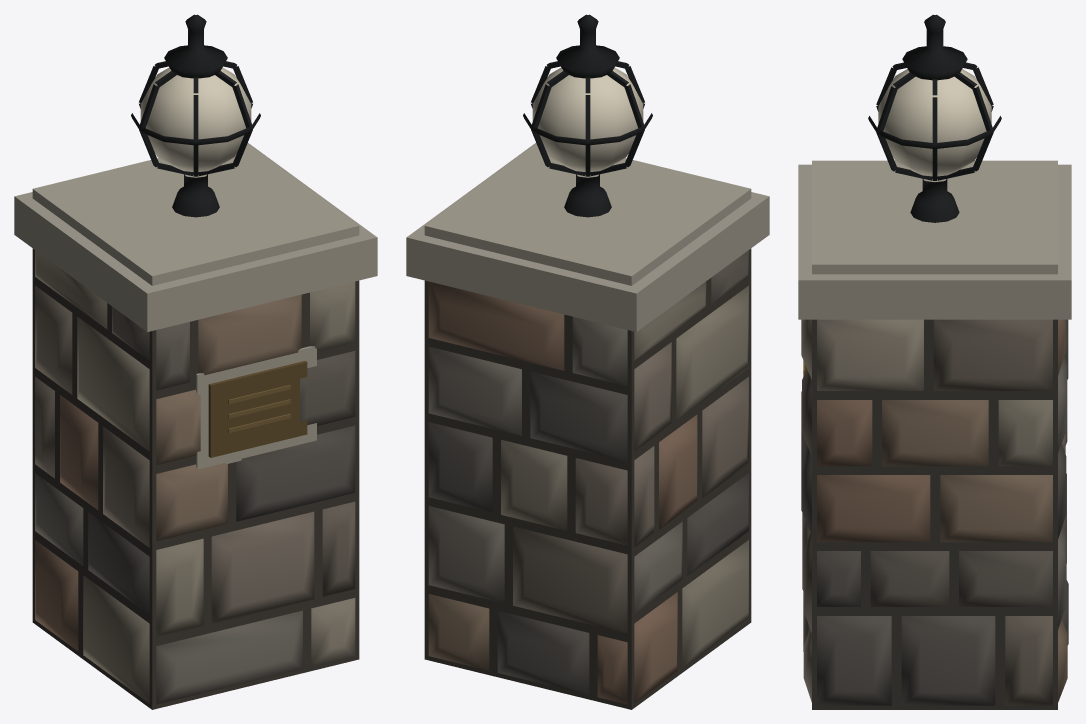
Rendered from wall.pier_lamp.fieldstone.glb.
3 renders of one model, left to right at view 1: azimuth 30°, elevation 25°; view 2: azimuth 150°, elevation 25°; view 3: azimuth 270°, elevation 25°, orthographic. The views are drawn at different scales.
Parts seen in each view (by area): view 1: wall_pier_lamp_fieldstone; view 2: wall_pier_lamp_fieldstone; view 3: wall_pier_lamp_fieldstone.
Boxes of the visible parts, box(x1,y1,x2,y2) form: wall_pier_lamp_fieldstone: box(14, 14, 377, 709); wall_pier_lamp_fieldstone: box(406, 14, 769, 709); wall_pier_lamp_fieldstone: box(798, 14, 1071, 709).
Size of what is drawn, in the model's own units: 1 by 2.6 by 1.
